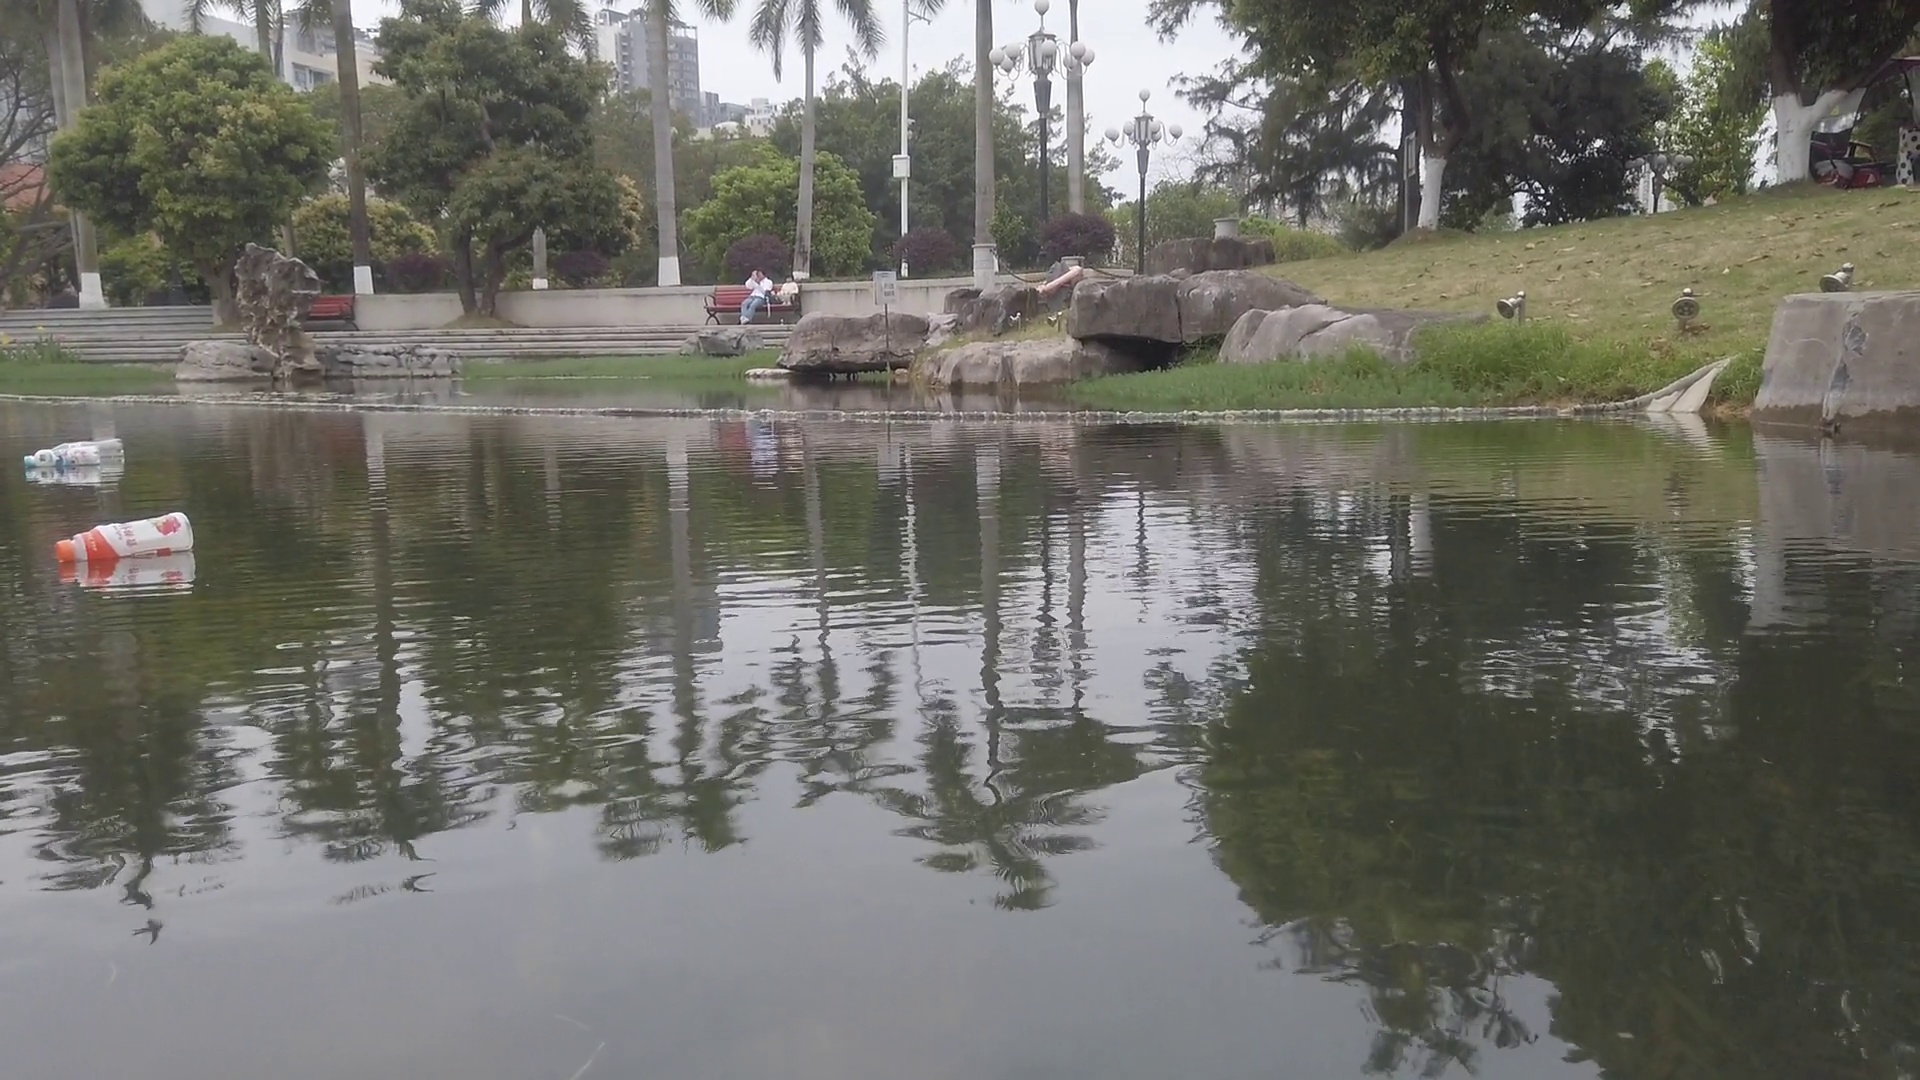bottle: (54, 512, 198, 560), (21, 444, 102, 469), (54, 436, 127, 458)
